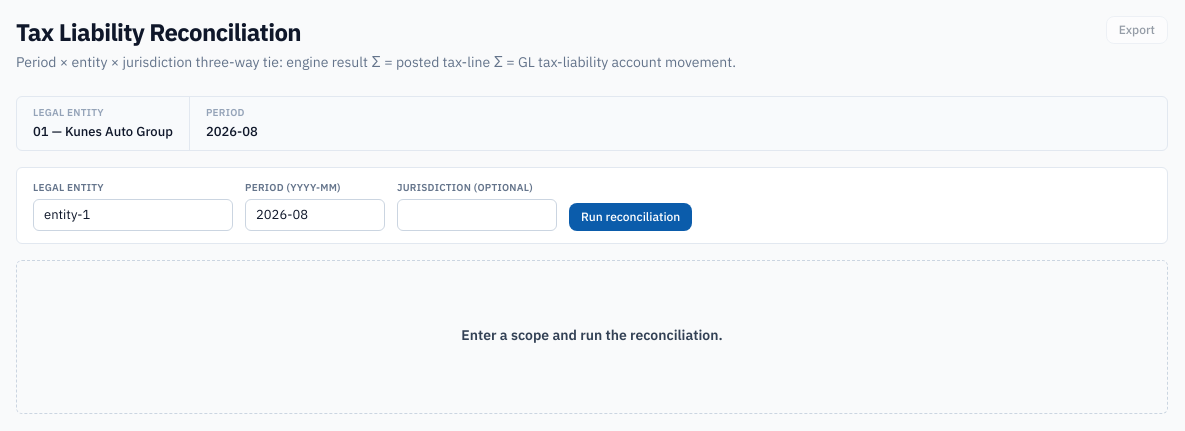
Test: TaxReconciliation › shows a loud variance banner/badge when the tie does not foot
The width and height of the screenshot is (1185, 431).
Click the button with test id "tax-reconciliation-run": (631, 216) [569,202,692,230]
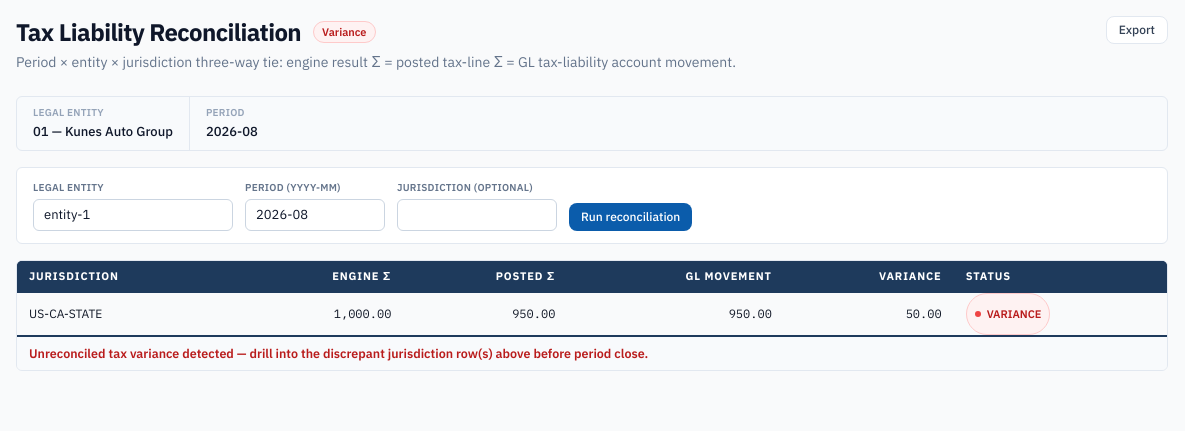
Expected: the table with test id "tax-reconciliation-table" is shown, [17,260,1167,370]
Expected: the text "VARIANCE" is shown, [966,292,1050,334]
Expected: the text "Unreconciled tax variance detected" is shown, [29,345,648,361]
